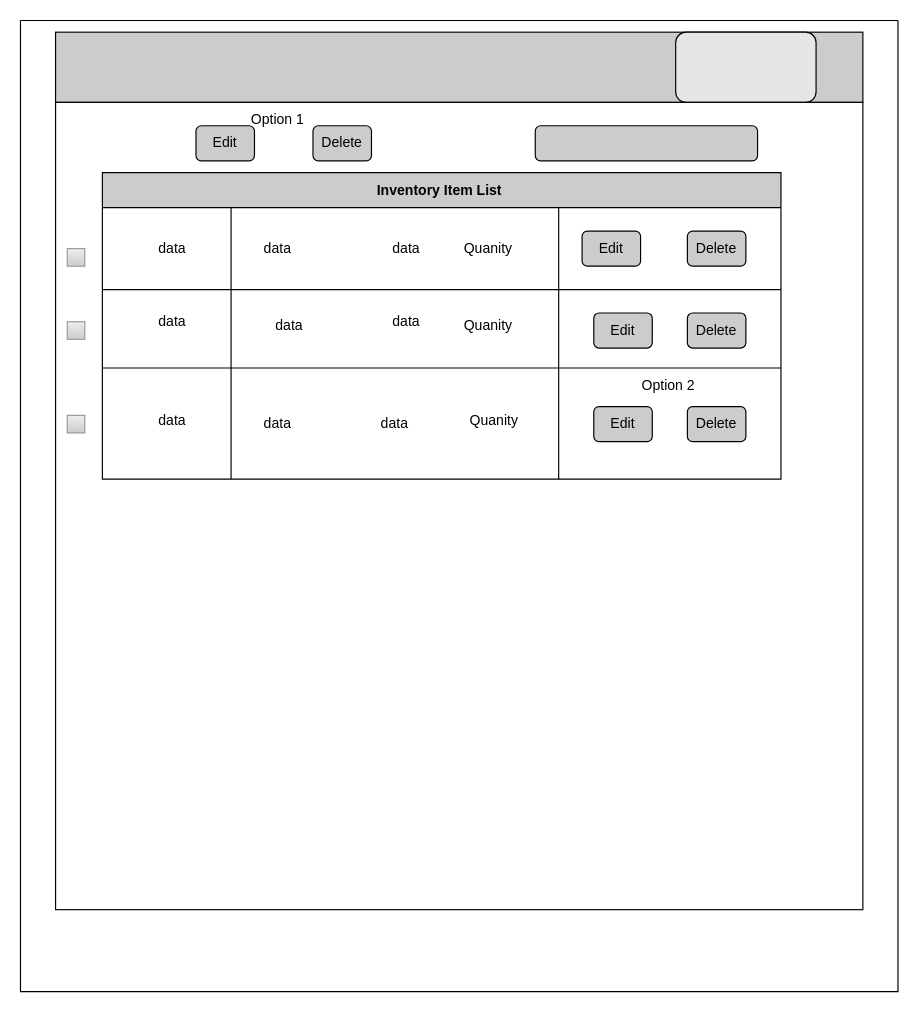
Some shapes in this 918 by 1012 pixel diagram are drawn without their labels. The centre of each missing label's shape, as x and y in pixels:
"Create New Inventory Item" belongs at point (646, 143).
"Inventory" belongs at point (745, 66).
